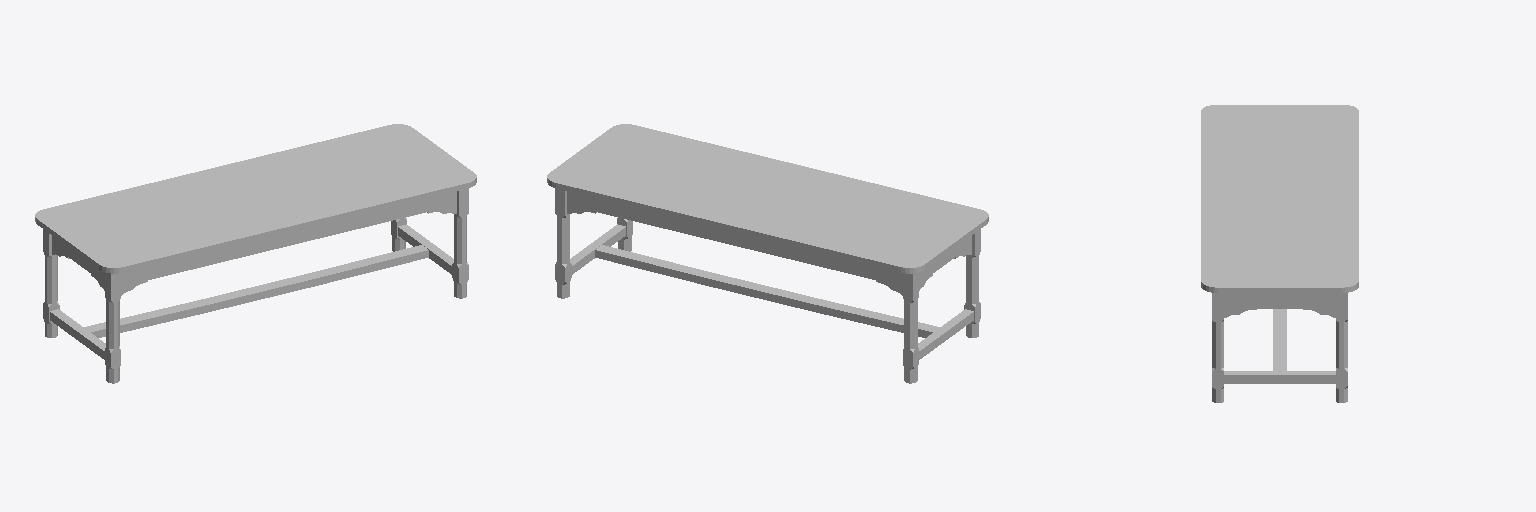
File: WoodenTable_01.obj
3 views of the same model, side by side, from view 1: azimuth 30°, elevation 25°; view 2: azimuth 150°, elevation 25°; view 3: azimuth 270°, elevation 25° (orthographic).
Visible parts, largest first — view 1: SM_table_Mesh; view 2: SM_table_Mesh; view 3: SM_table_Mesh.
Part boxes in pixels (x1,y1,x2,y2): SM_table_Mesh: (35, 124, 476, 383); SM_table_Mesh: (547, 124, 988, 383); SM_table_Mesh: (1201, 105, 1358, 402).
Bounding box in the file's own units: 1.8 × 0.5488 × 0.6572.